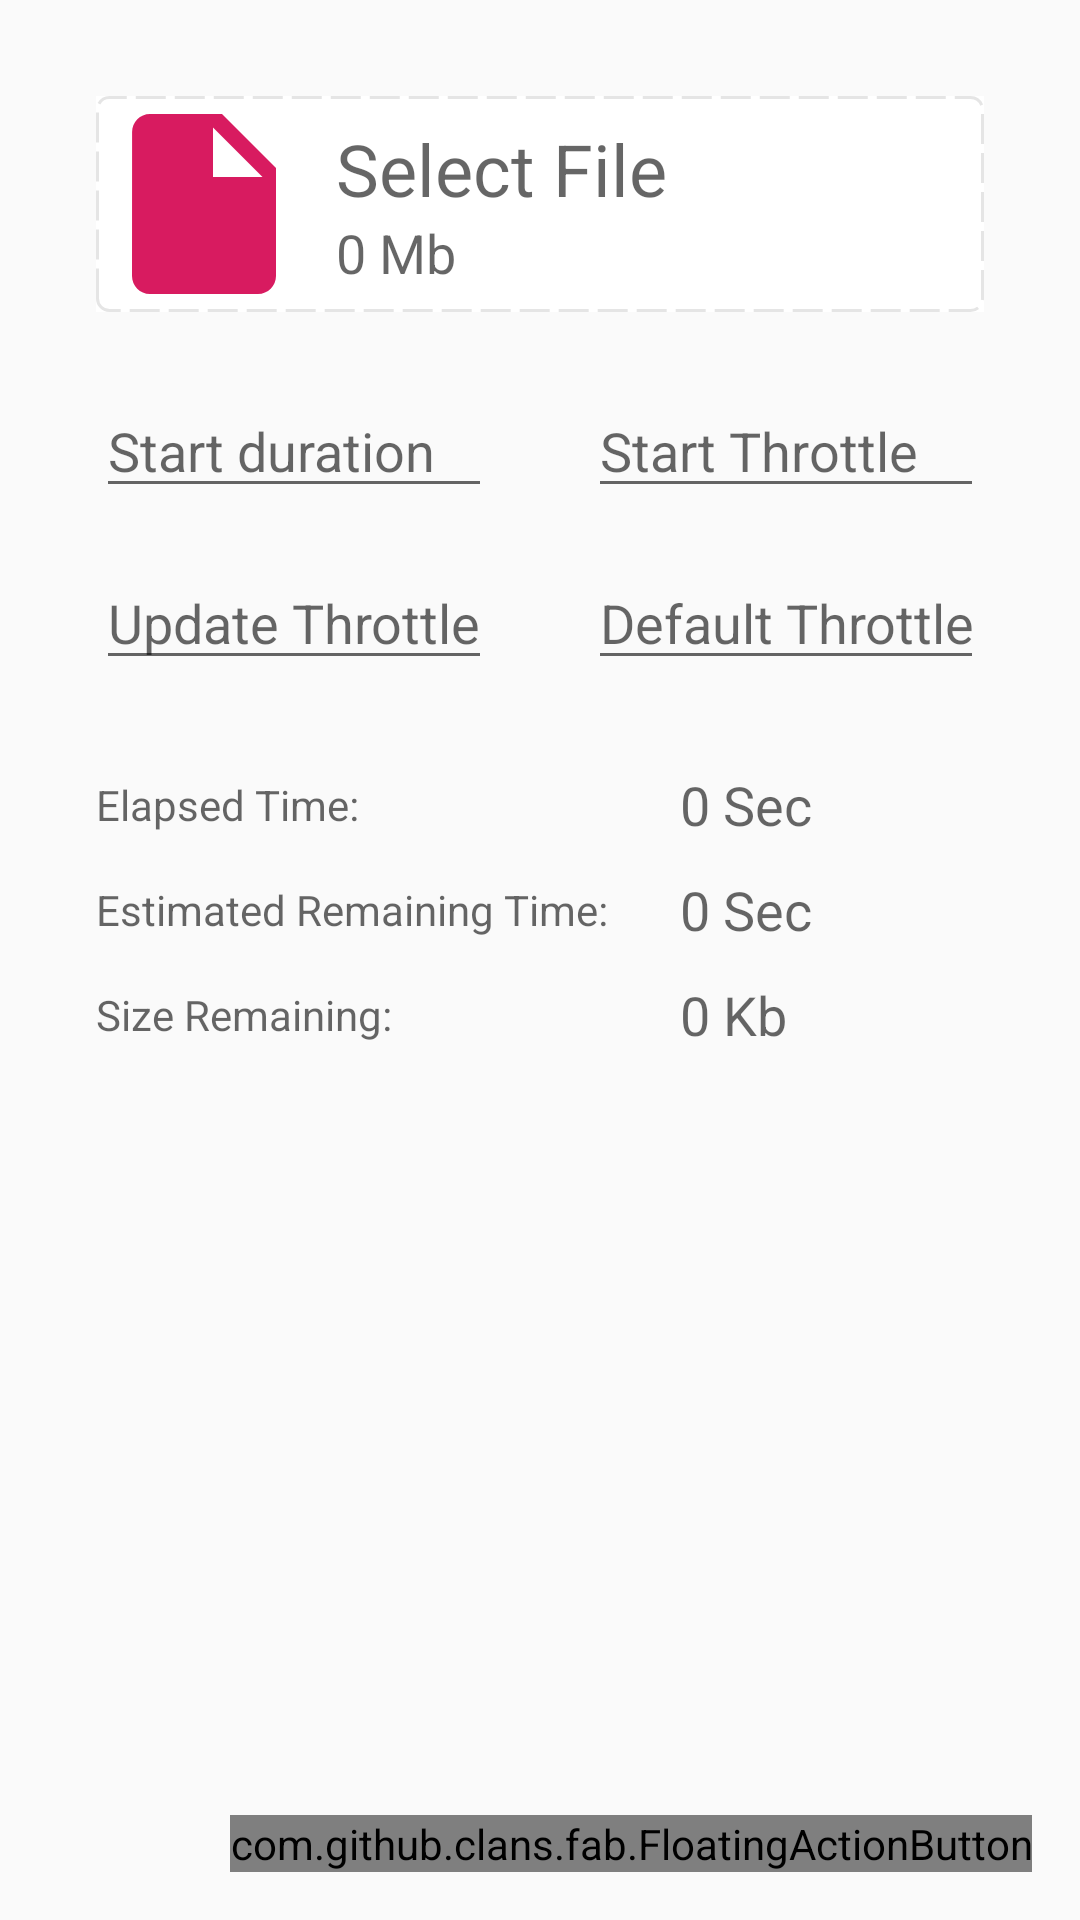

Icon click points for this 1080 x 1920 phone screenshot, format (x=x, y=y):
insert drive file: (x=204, y=204)
